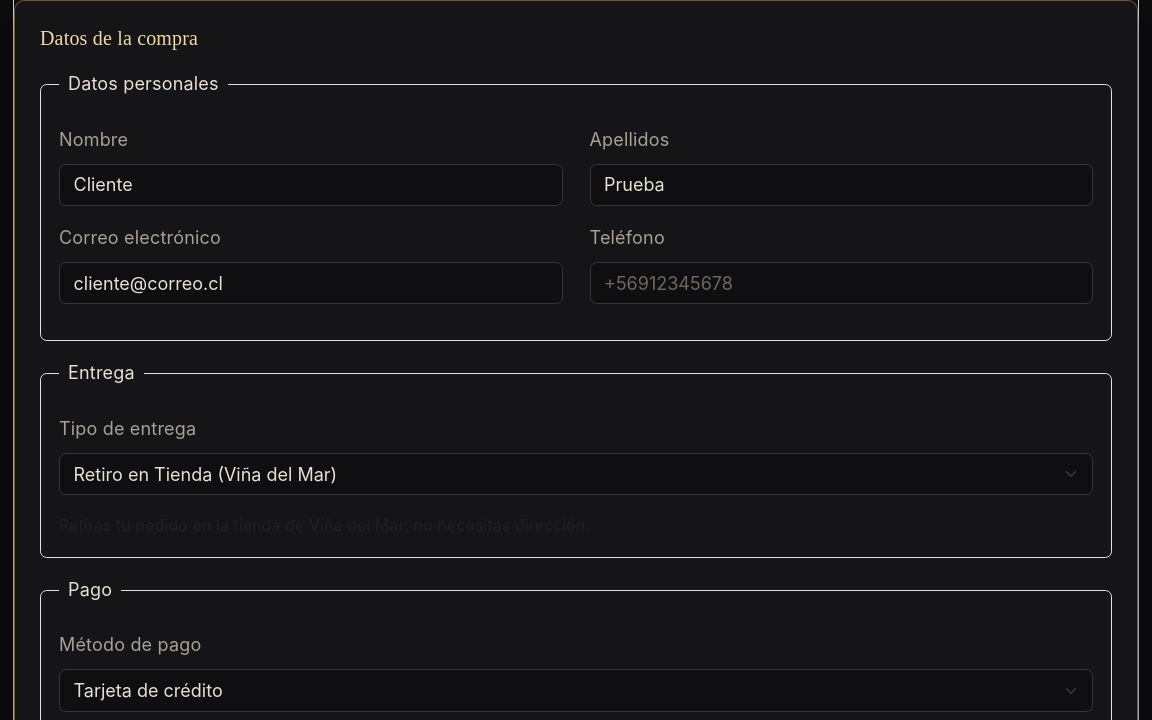
Test: FormularioCheckout › rechaza un teléfono con formato inválido
The image size is (1152, 720).
Type "123" into the field labelled "Teléfono" at (841, 283), box [590,262,1093,304]
(page scrolled)
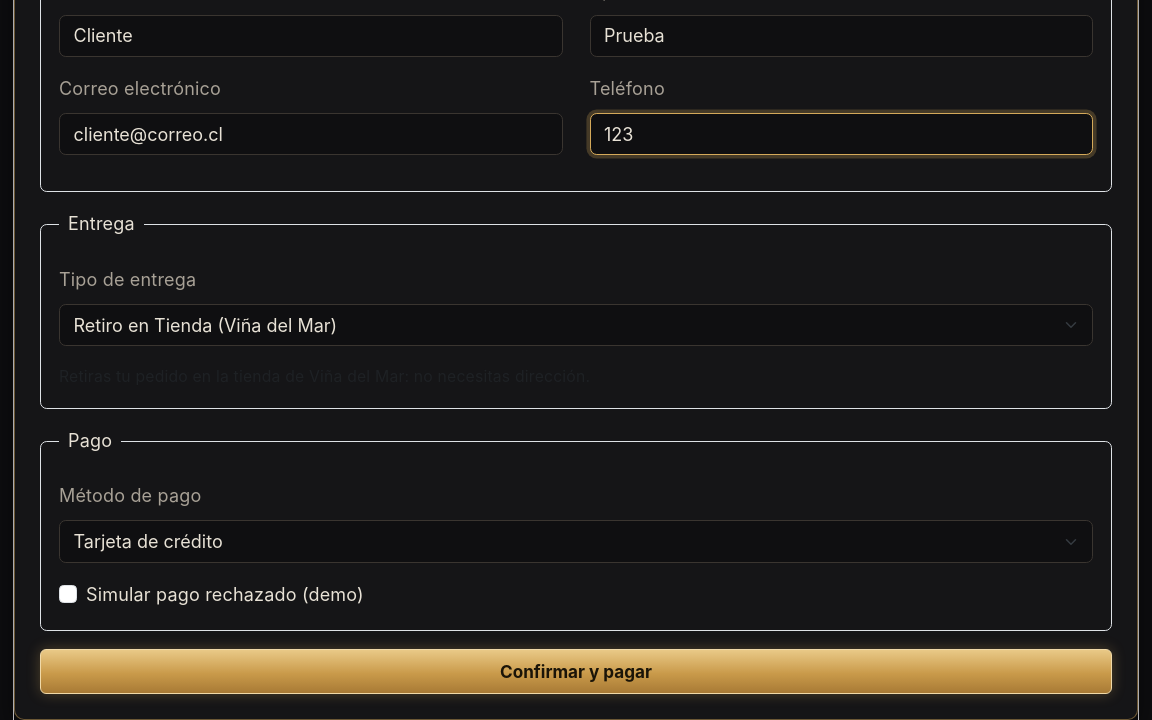
Click the button "Confirmar y pagar" at (576, 671), box [40,649,1112,694]
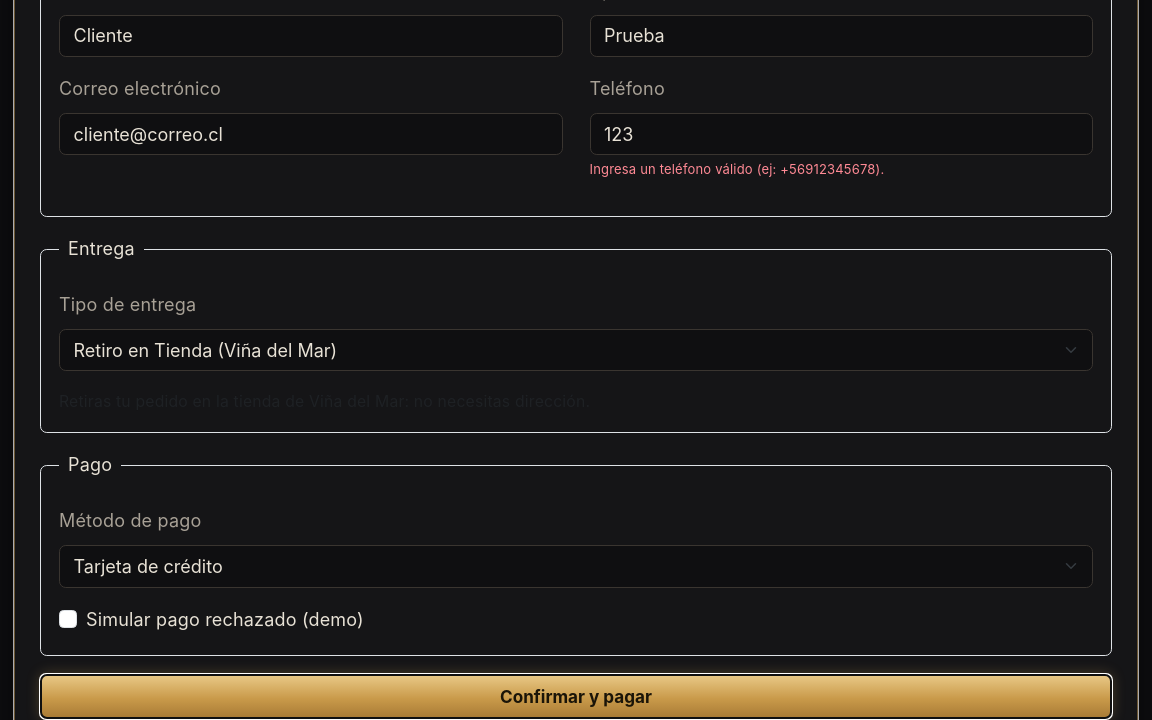
Expected: the text "Ingresa un teléfono válido (ej: +56912345678)." is shown, [590,161,884,177]
